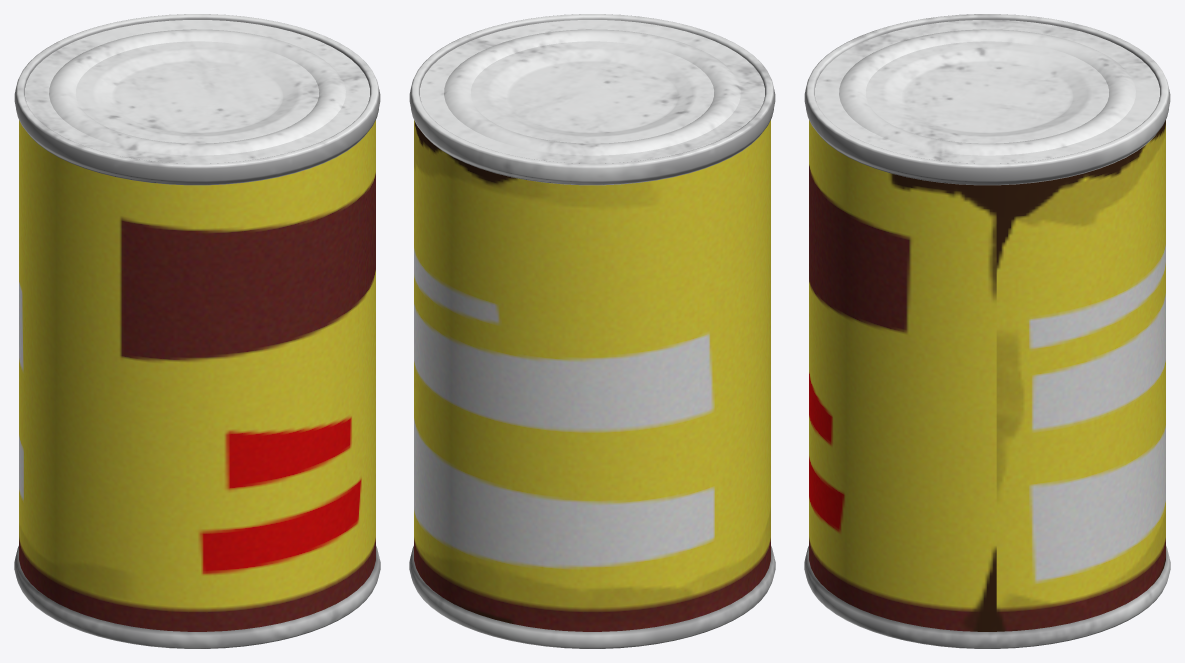
File: SM_FoodCan07.fbx
3 renders of one model, left to right at view 1: azimuth 30°, elevation 25°; view 2: azimuth 150°, elevation 25°; view 3: azimuth 270°, elevation 25°, orthographic.
Parts seen in each view (by area): view 1: SM_FoodCan07_LOD0; view 2: SM_FoodCan07_LOD0; view 3: SM_FoodCan07_LOD0.
Part boxes in pixels (bbox=[...]): SM_FoodCan07_LOD0: bbox=[14, 14, 380, 648]; SM_FoodCan07_LOD0: bbox=[409, 14, 775, 648]; SM_FoodCan07_LOD0: bbox=[804, 14, 1170, 648].
Size of the model in its own units: 10.32 by 10.32 by 15.16.
1 material, 1 textured.
